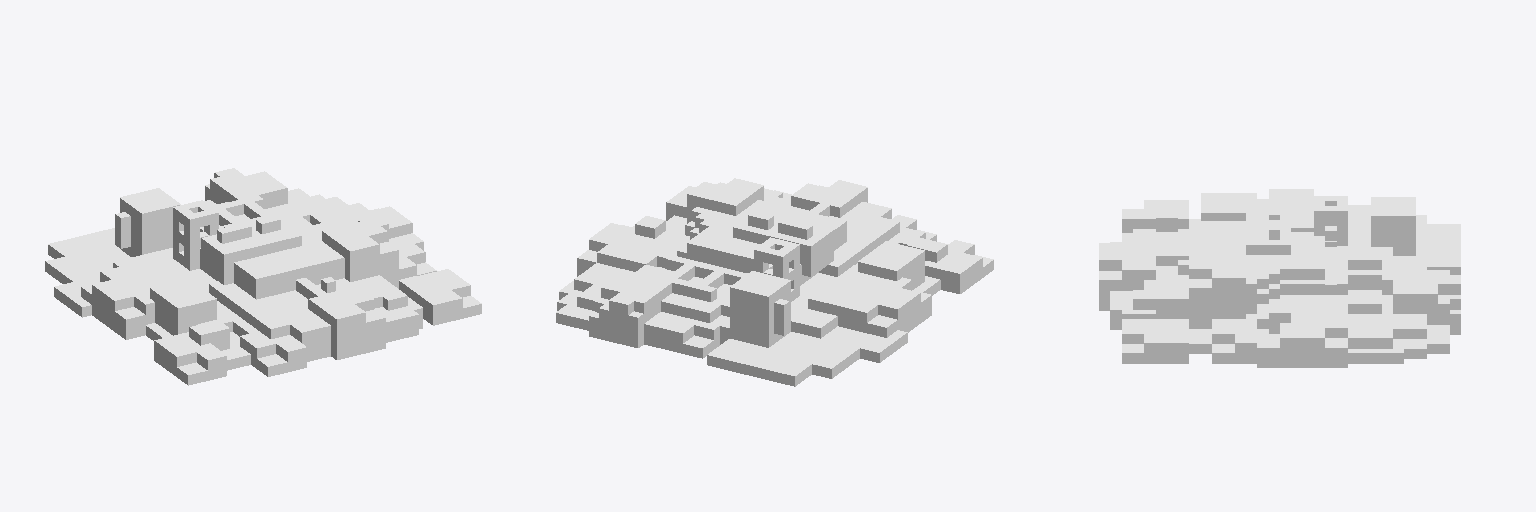
File: opentrash.obj
The picture shows the model from 3 angles: view 1: azimuth 30°, elevation 25°; view 2: azimuth 150°, elevation 25°; view 3: azimuth 270°, elevation 25°; orthographic projection.
Visible parts, largest first — view 1: object 1; view 2: object 1; view 3: object 1.
Part boxes in pixels (x1,y1,x2,y2): object 1: (45, 168, 481, 385); object 1: (556, 178, 993, 386); object 1: (1099, 189, 1460, 367).
Bounding box in the file's own units: 3.2 × 0.7 × 3.2.